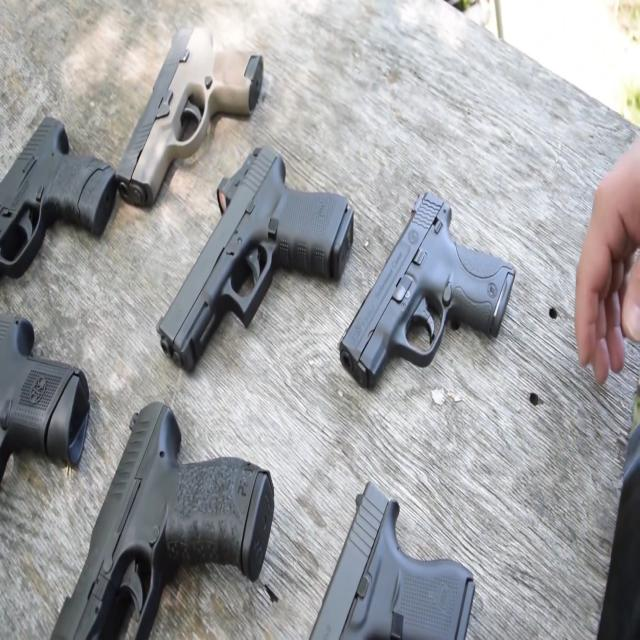handgun: (42, 376, 278, 640), (324, 178, 556, 407), (148, 142, 372, 376), (118, 11, 267, 224), (302, 496, 485, 639), (0, 90, 125, 283), (0, 308, 120, 478)
